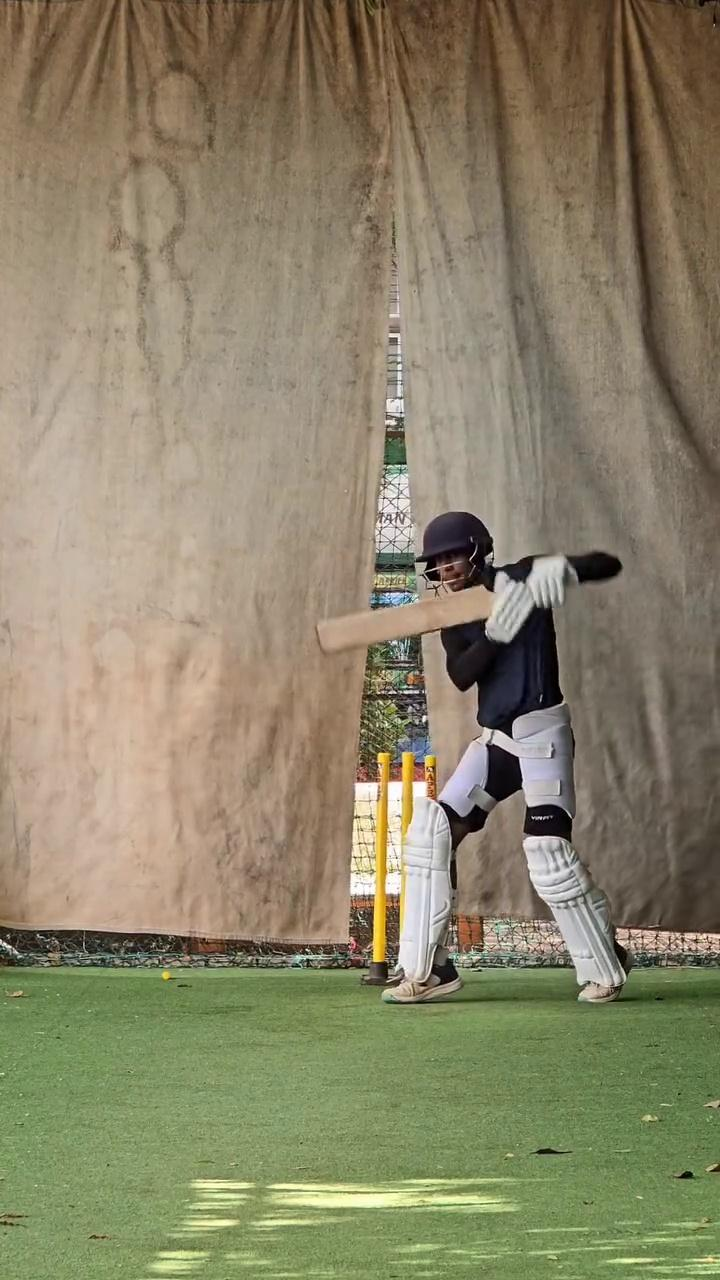bat: (311, 581, 496, 658)
